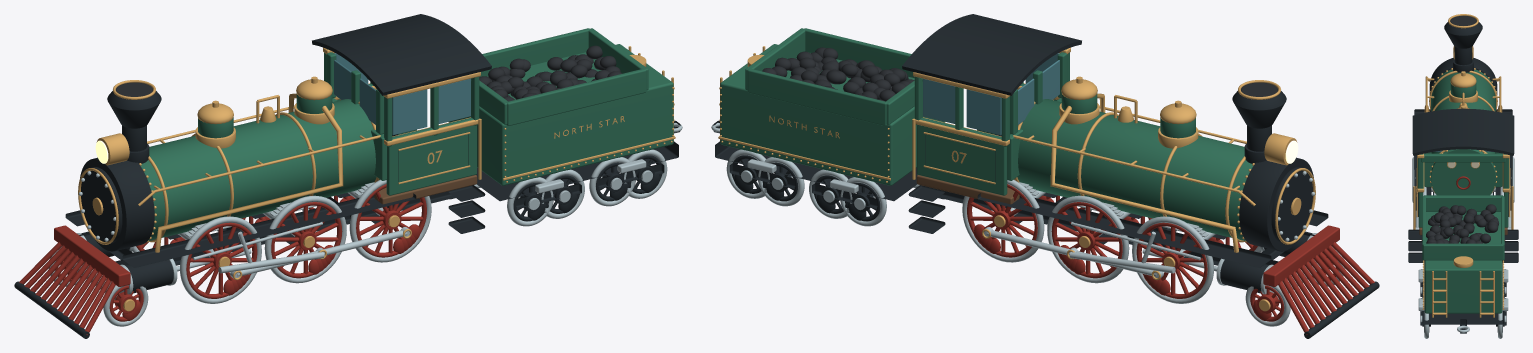
Rendered from heritage.glb.
3 views of the same model, side by side, from view 1: azimuth 30°, elevation 25°; view 2: azimuth 150°, elevation 25°; view 3: azimuth 270°, elevation 25° (orthographic). The views are drawn at different scales.
Parts seen in each view (by area): view 1: Boiler barrel, Tender tank, Arched cab roof, Cab lower side, Coal bunker side, Running board, Smokebox, Coal bunker side.001, Smokebox door, Front buffer beam, Steam delivery pipe, Tender underframe (+37 smaller); view 2: Boiler barrel, Tender tank, Arched cab roof, Cab lower side.001, Coal bunker side.001, Running board.001, Smokebox, Coal bunker side, Smokebox door, Front buffer beam, Steam delivery pipe.001, Tender underframe (+37 smaller); view 3: Tender tank, Arched cab roof, Boiler barrel, Bunker rear, Bunker front, Tender underframe, Cab rear transom, Smokebox, Cab front lower, Flared spark arrestor, Arrestor crown, Chimney stem (+35 smaller).
Boxes of the visible parts, bbox=[...] form: Boiler barrel: bbox=[140, 99, 383, 240]; Tender tank: bbox=[449, 44, 673, 185]; Arched cab roof: bbox=[312, 14, 491, 95]; Cab lower side: bbox=[386, 117, 476, 195]; Coal bunker side: bbox=[506, 68, 646, 125]; Running board: bbox=[122, 193, 416, 267]; Smokebox: bbox=[80, 157, 154, 251]; Coal bunker side.001: bbox=[479, 28, 589, 76]; Smokebox door: bbox=[81, 167, 122, 243]; Front buffer beam: bbox=[54, 225, 130, 286]; Steam delivery pipe: bbox=[155, 106, 343, 252]; Tender underframe: bbox=[476, 141, 678, 201]; Boiler barrel: bbox=[1010, 99, 1253, 240]; Tender tank: bbox=[720, 44, 944, 185]; Arched cab roof: bbox=[902, 14, 1081, 95]; Cab lower side.001: bbox=[917, 117, 1007, 195]; Coal bunker side.001: bbox=[747, 68, 887, 125]; Running board.001: bbox=[977, 193, 1271, 267]; Smokebox: bbox=[1239, 157, 1313, 251]; Coal bunker side: bbox=[804, 28, 914, 77]; Smokebox door: bbox=[1271, 167, 1312, 243]; Front buffer beam: bbox=[1263, 225, 1339, 286]; Steam delivery pipe.001: bbox=[1050, 106, 1238, 252]; Tender underframe: bbox=[715, 141, 917, 201]; Tender tank: bbox=[1424, 212, 1502, 313]; Arched cab roof: bbox=[1412, 108, 1514, 155]; Boiler barrel: bbox=[1431, 69, 1495, 195]; Bunker rear: bbox=[1423, 243, 1503, 260]; Bunker front: bbox=[1424, 195, 1502, 211]; Tender underframe: bbox=[1423, 260, 1503, 324]; Cab rear transom: bbox=[1421, 153, 1505, 162]; Smokebox: bbox=[1429, 57, 1497, 94]; Cab front lower: bbox=[1424, 162, 1502, 187]; Flared spark arrestor: bbox=[1445, 30, 1481, 48]; Arrestor crown: bbox=[1444, 16, 1482, 35]; Chimney stem: bbox=[1454, 46, 1472, 65].
Size of the model in its own units: 12.3 by 3.87 by 2.6.
